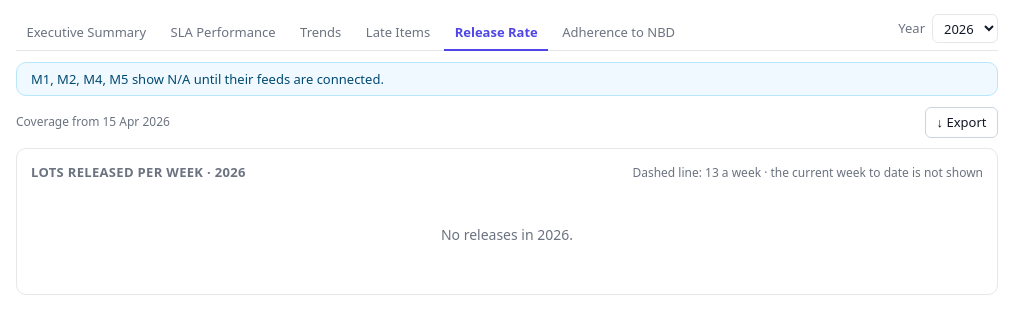
Test: F20: empty release and adherence tabs say so
The width and height of the screenshot is (1015, 335).
Expected: the text "No releases in 2026." is shown, x1=441 y1=225 x2=573 y2=244
Click the tab with test id "reports-tab-adherence". click: (619, 34)
box: x1=552 y1=16 x2=686 y2=51
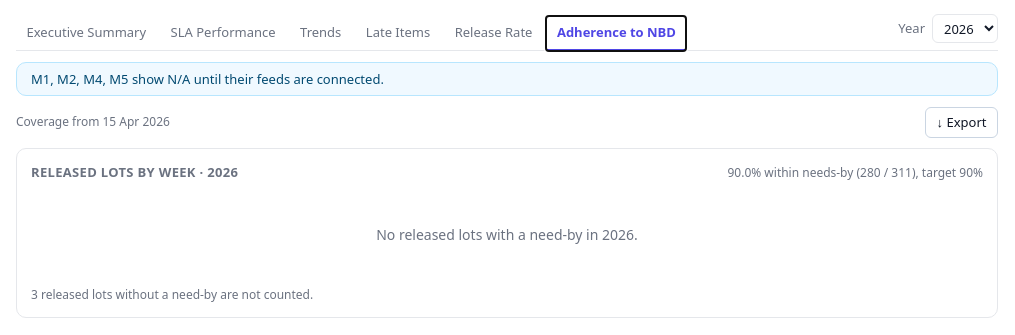
Result: the text "No released lots with a need-by in 2026." is shown at x1=376 y1=225 x2=638 y2=244
Result: the text with test id "adherence-summary" reads "90.0% within needs-by (280 / 311), target 90%" at x1=728 y1=165 x2=983 y2=181
